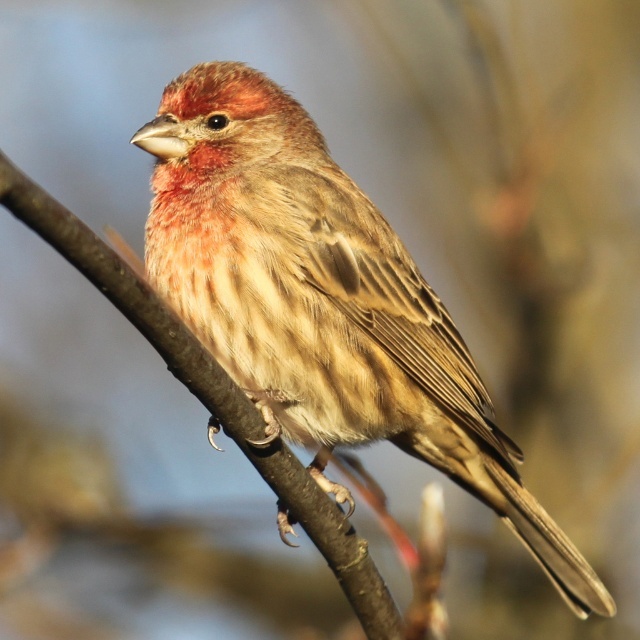Sparrow: (129, 60, 617, 620)
